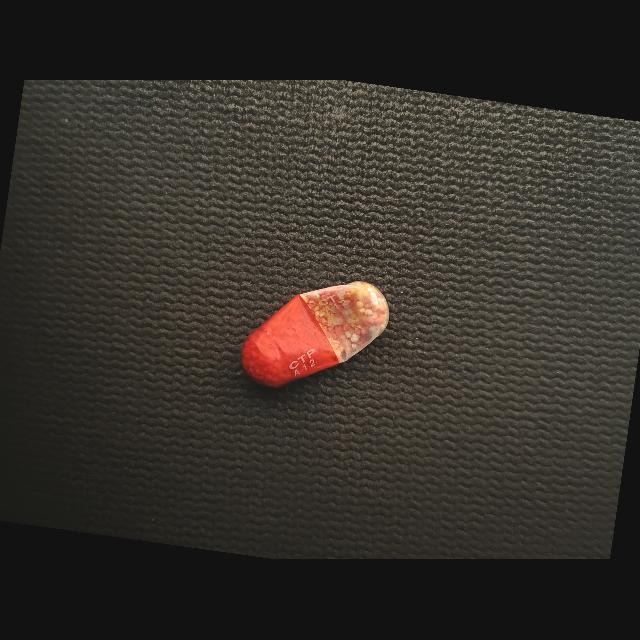Defective Capsule: (242, 282, 389, 388)
